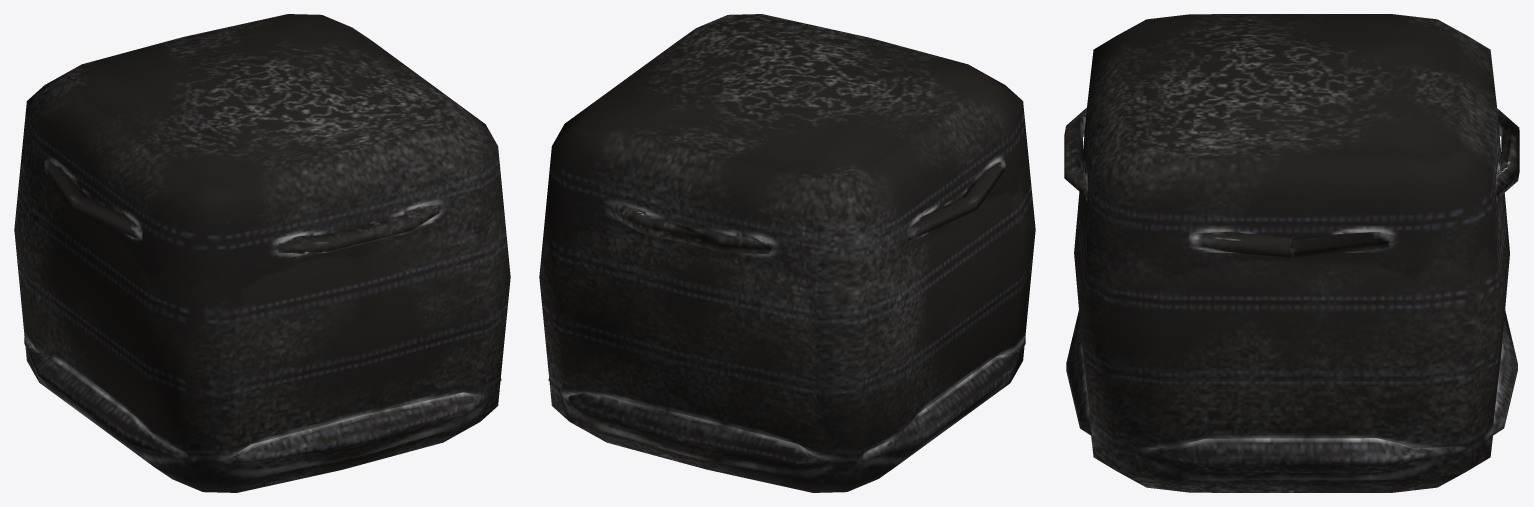
Rendered from Maton_MangaAbajoIzq.fbx.
The picture shows the model from 3 angles, left to right: view 1: azimuth 30°, elevation 25°; view 2: azimuth 150°, elevation 25°; view 3: azimuth 270°, elevation 25°; orthographic projection. The views are drawn at different scales.
Visible parts, largest first — view 1: Maton_MangaAbajoIzq; view 2: Maton_MangaAbajoIzq; view 3: Maton_MangaAbajoIzq.
Part boxes in pixels (box(x1,y1,x2,y2)): Maton_MangaAbajoIzq: box(14, 14, 510, 492); Maton_MangaAbajoIzq: box(539, 14, 1035, 492); Maton_MangaAbajoIzq: box(1064, 14, 1519, 492).
Bounding box in the file's own units: 1.42 × 1.19 × 1.38.
